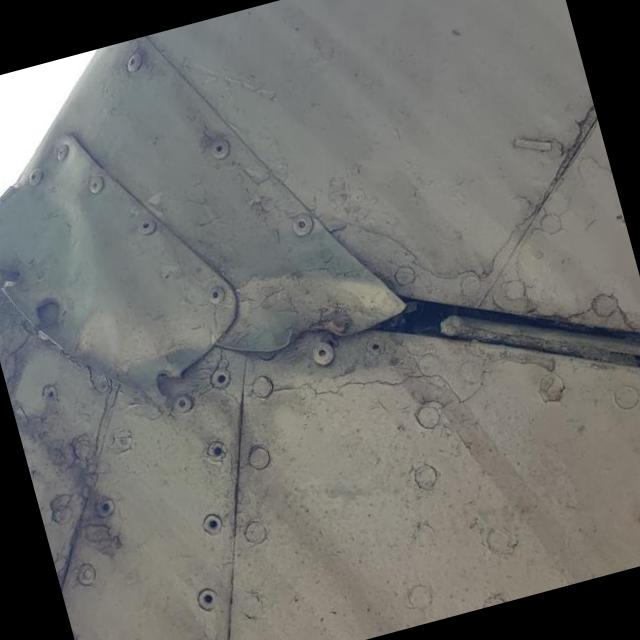Crack: (265, 306, 355, 351)
